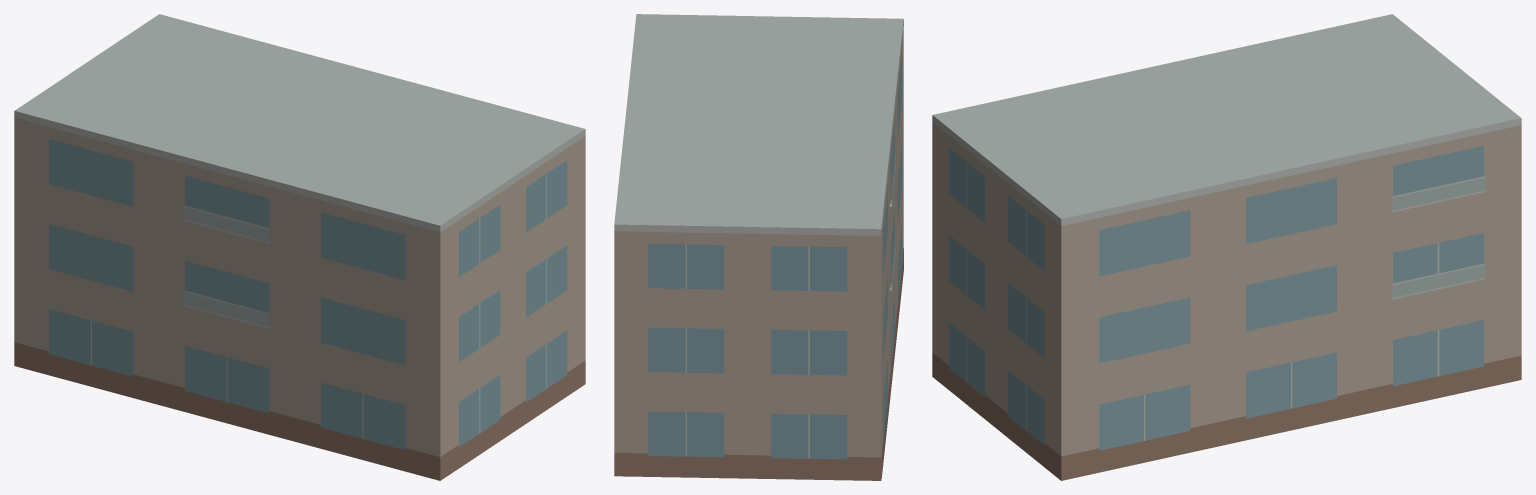
File: survey-upis-32699179.glb
3 renders of one model, left to right at view 1: azimuth 30°, elevation 25°; view 2: azimuth 150°, elevation 25°; view 3: azimuth 270°, elevation 25°, orthographic. The views are drawn at different scales.
Visible parts, largest first — view 1: survey-upis-32699179.tmp; view 2: survey-upis-32699179.tmp; view 3: survey-upis-32699179.tmp.
Part boxes in pixels (x1,y1,x2,y2): survey-upis-32699179.tmp: (14,14,585,480); survey-upis-32699179.tmp: (614,14,903,480); survey-upis-32699179.tmp: (932,14,1521,480).
Size of the model in its own units: 15.39 by 9.15 by 18.68.
